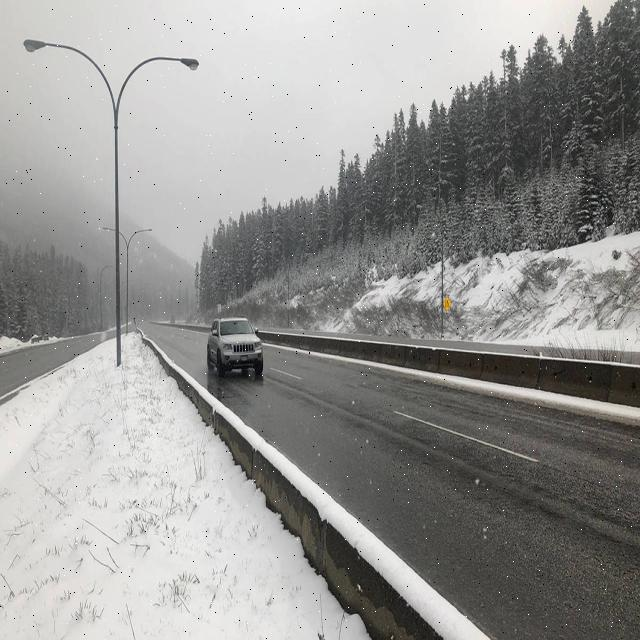car: (206, 316, 264, 380)
